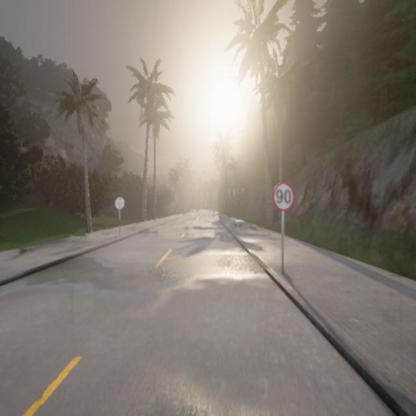traffic_sign_90: (273, 182, 294, 211)
